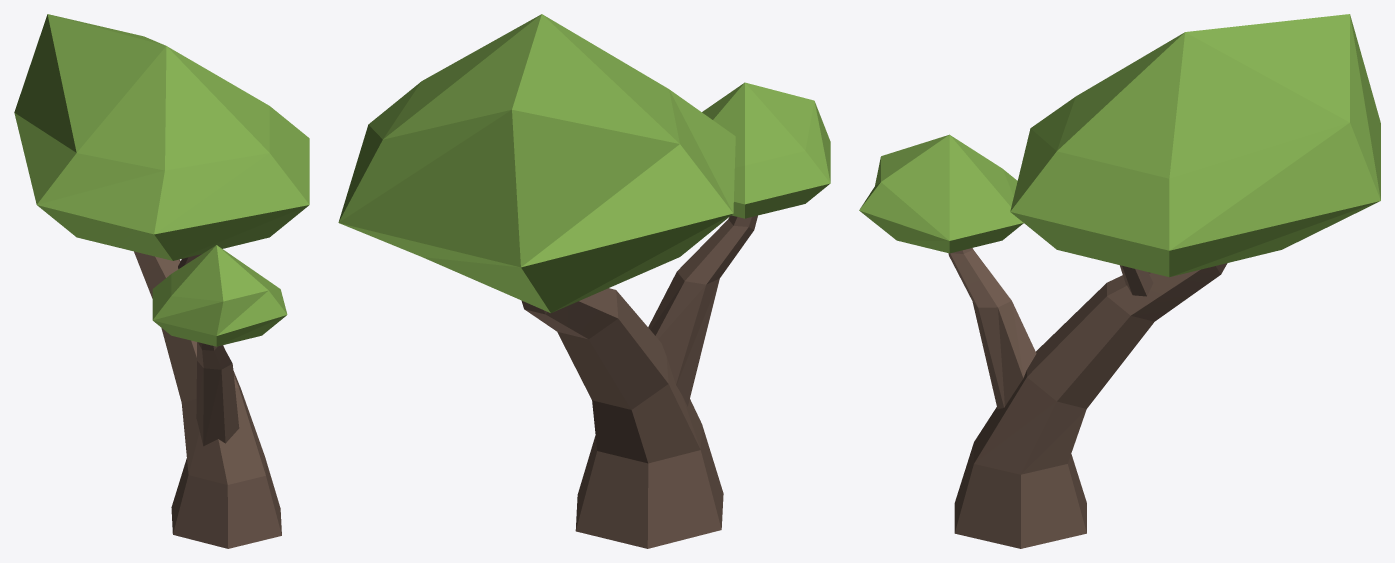
Rendered from Medieval_Tree.glb.
The picture shows the model from 3 angles, left to right: view 1: azimuth 30°, elevation 25°; view 2: azimuth 150°, elevation 25°; view 3: azimuth 270°, elevation 25°; orthographic projection. The views are drawn at different scales.
Parts seen in each view (by area): view 1: Object_2; view 2: Object_2; view 3: Object_2.
Boxes of the visible parts, box(x1,y1,x2,y2) form: Object_2: box(14, 14, 309, 548); Object_2: box(338, 14, 830, 548); Object_2: box(859, 14, 1380, 548).
Bounding box in the file's own units: 4.74 × 7 × 6.73.
Materials: 1 (1 with a texture image).
